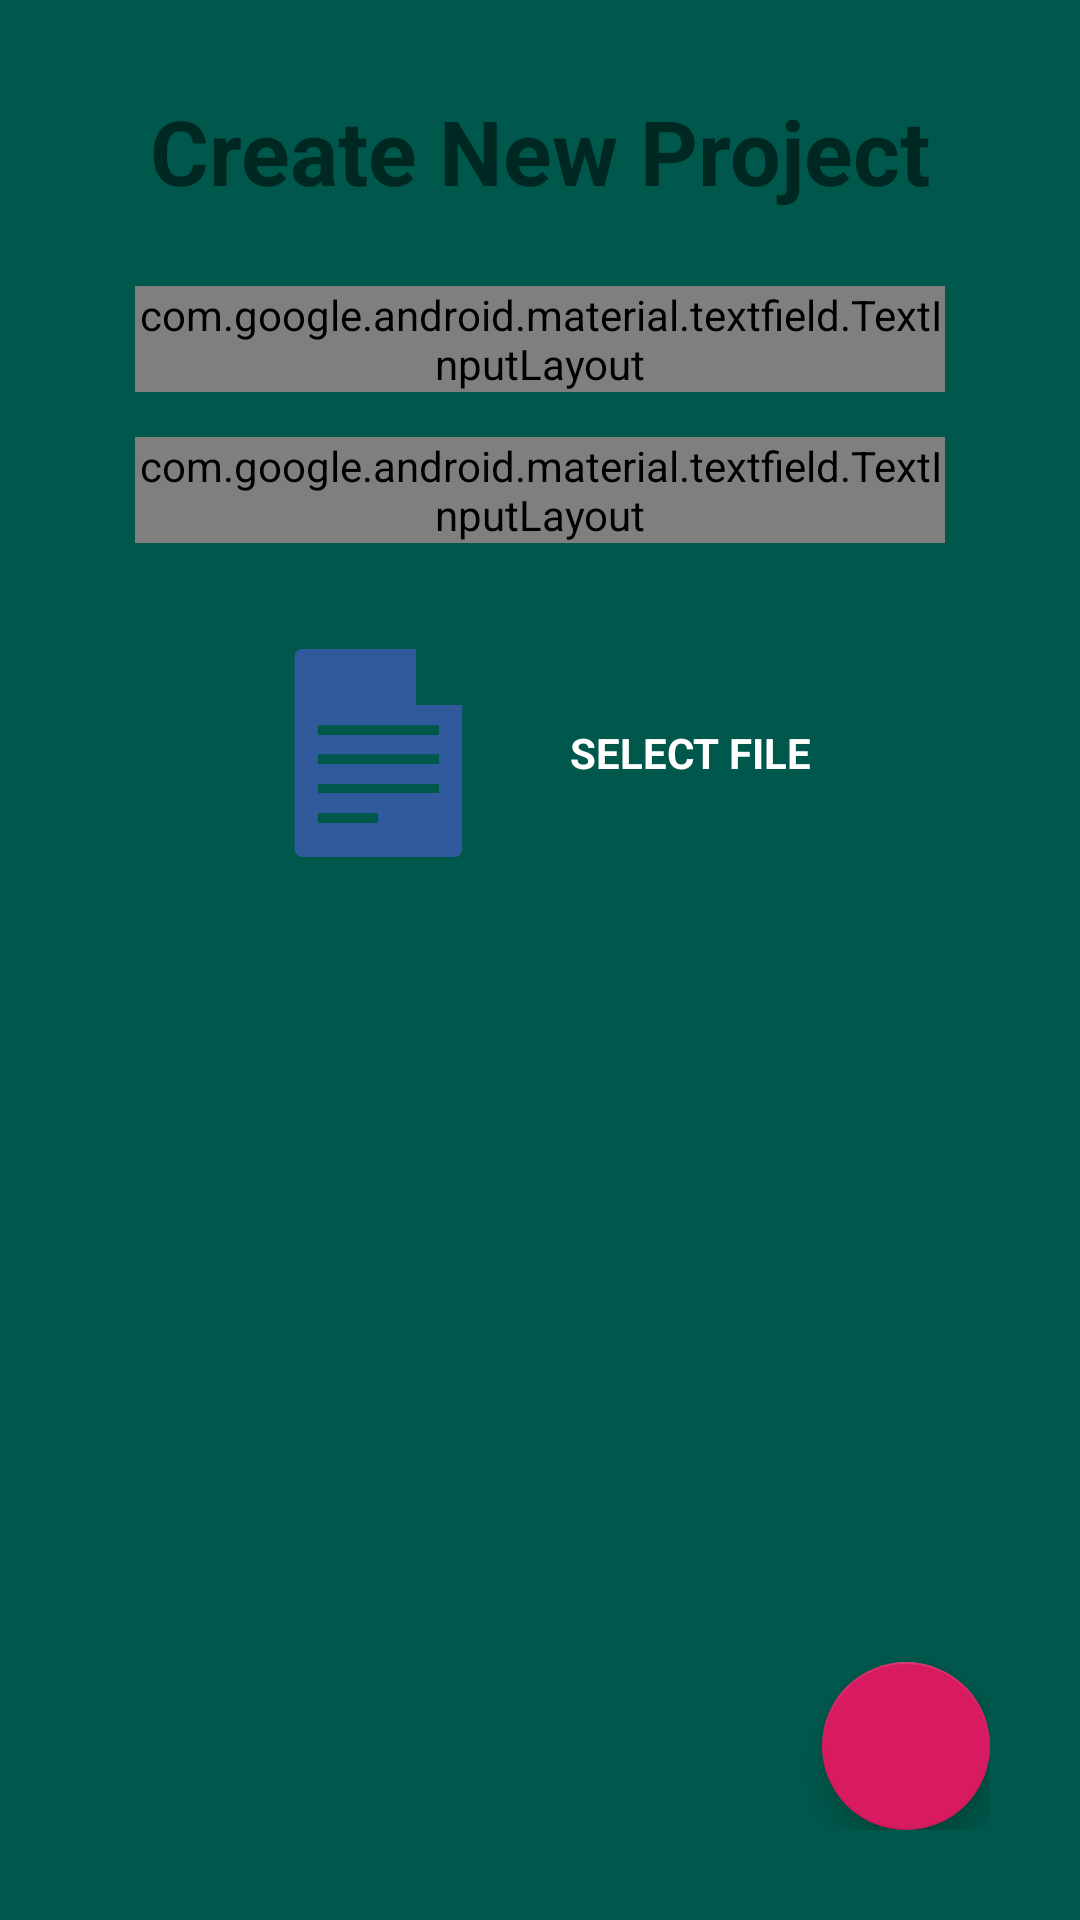

Locate icon controls on the screen. Image size 1080w x 1920h, boxes as [x1=x1, y1=y1, x2=x2, y2=y2].
doc: [x1=294, y1=649, x2=462, y2=857]
